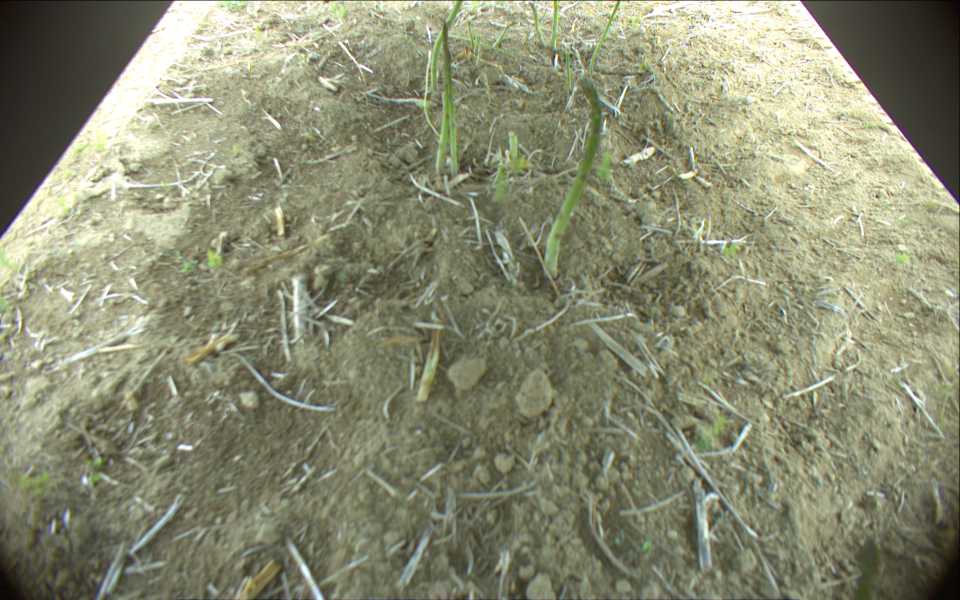aspa: (542, 79, 603, 284), (431, 1, 463, 90), (435, 22, 450, 177), (588, 1, 621, 69), (444, 48, 459, 177), (445, 35, 514, 59), (530, 3, 544, 47), (507, 130, 518, 170), (494, 22, 512, 46), (551, 1, 559, 50), (565, 48, 572, 95), (467, 22, 476, 48), (474, 32, 481, 59)
